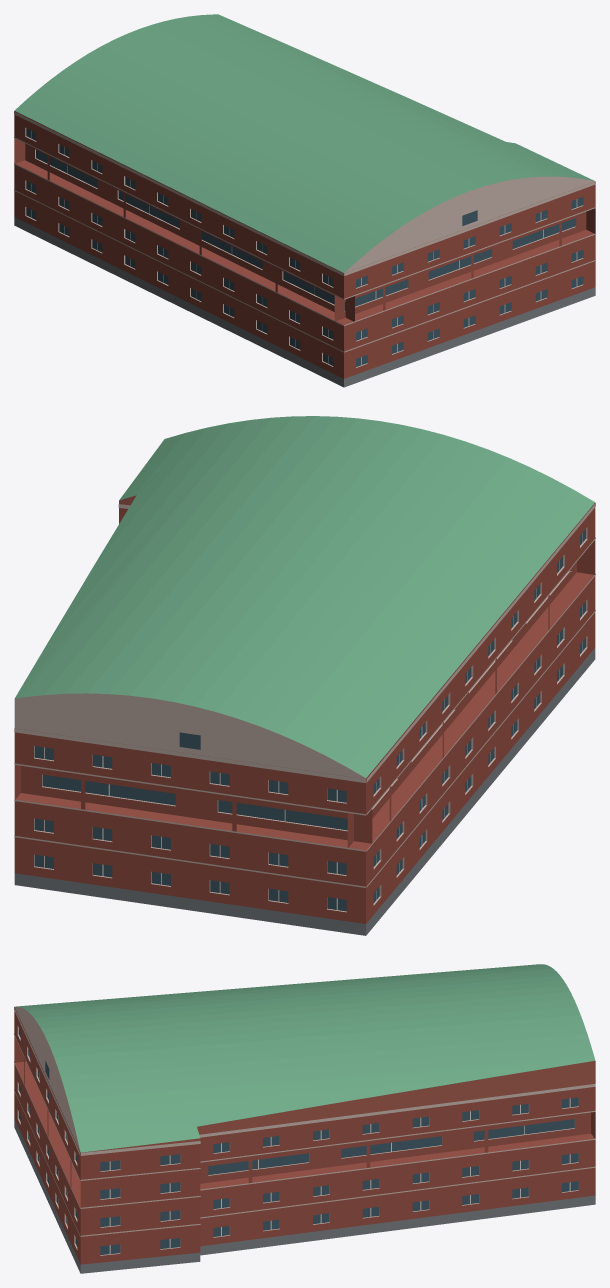
The picture shows the model from 3 angles, top to bottom: view 1: azimuth 30°, elevation 25°; view 2: azimuth 150°, elevation 25°; view 3: azimuth 270°, elevation 25°; orthographic projection. The views are drawn at different scales.
Visible parts, largest first — view 1: hall3__roof-metal, hall3__brick, hall3__trim-concrete, hall3__glass, hall3__base-stone, hall3__frame; view 2: hall3__roof-metal, hall3__brick, hall3__trim-concrete, hall3__glass, hall3__base-stone, hall3__frame; view 3: hall3__roof-metal, hall3__brick, hall3__trim-concrete, hall3__glass, hall3__wall-plaster, hall3__base-stone, hall3__frame.
Boxes of the visible parts, box(x1,y1,x2,y2) form: hall3__roof-metal: box(14, 14, 594, 272); hall3__brick: box(14, 114, 595, 378); hall3__trim-concrete: box(14, 111, 595, 367); hall3__glass: box(26, 128, 582, 366); hall3__base-stone: box(14, 217, 595, 387); hall3__frame: box(31, 130, 577, 365); hall3__roof-metal: box(15, 416, 594, 777); hall3__brick: box(14, 503, 595, 923); hall3__trim-concrete: box(14, 503, 595, 912); hall3__glass: box(34, 529, 585, 911); hall3__base-stone: box(14, 648, 595, 935); hall3__frame: box(44, 533, 582, 910); hall3__roof-metal: box(16, 964, 595, 1152); hall3__brick: box(14, 1007, 595, 1264); hall3__trim-concrete: box(14, 1006, 595, 1255); hall3__glass: box(19, 1029, 578, 1254); hall3__wall-plaster: box(81, 1060, 595, 1152); hall3__base-stone: box(14, 1119, 595, 1273); hall3__frame: box(29, 1052, 570, 1254).
Size of the model in its own units: 39.78 by 15.69 by 51.91.
